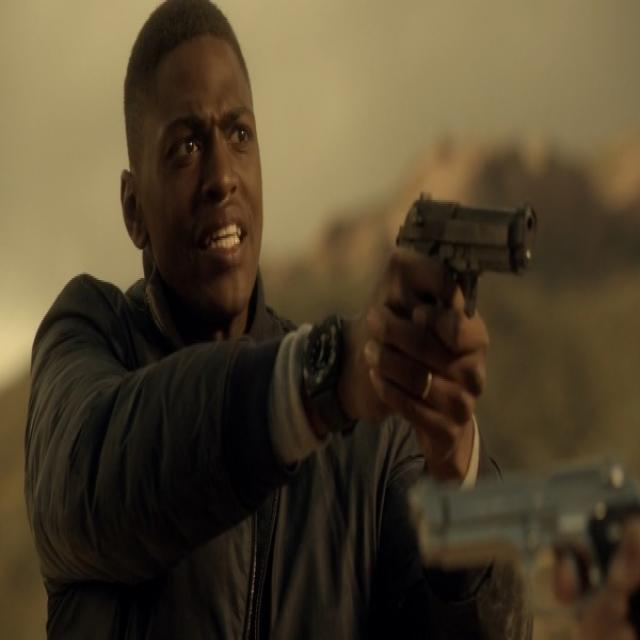weapons: (385, 159, 544, 430)
